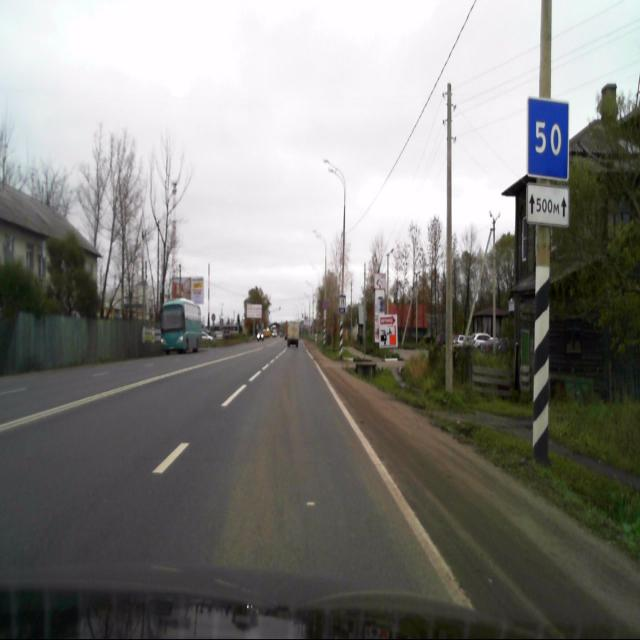road sign: (528, 99, 570, 183), (526, 185, 569, 228)
